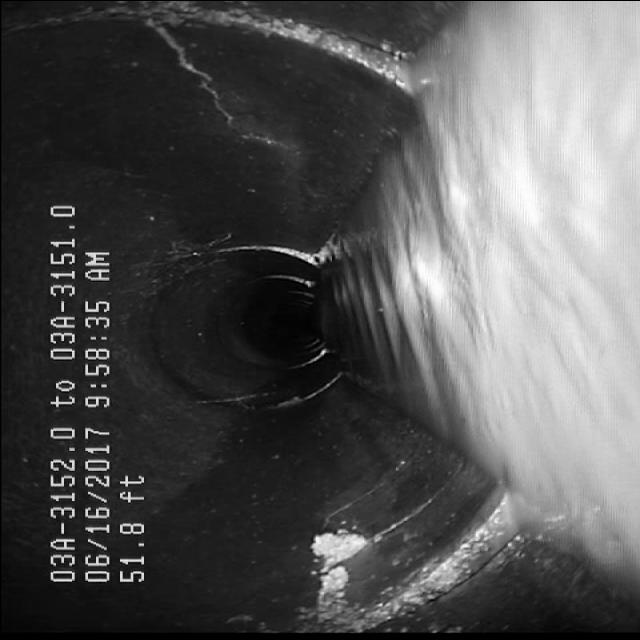Fracture: (141, 26, 288, 180)
